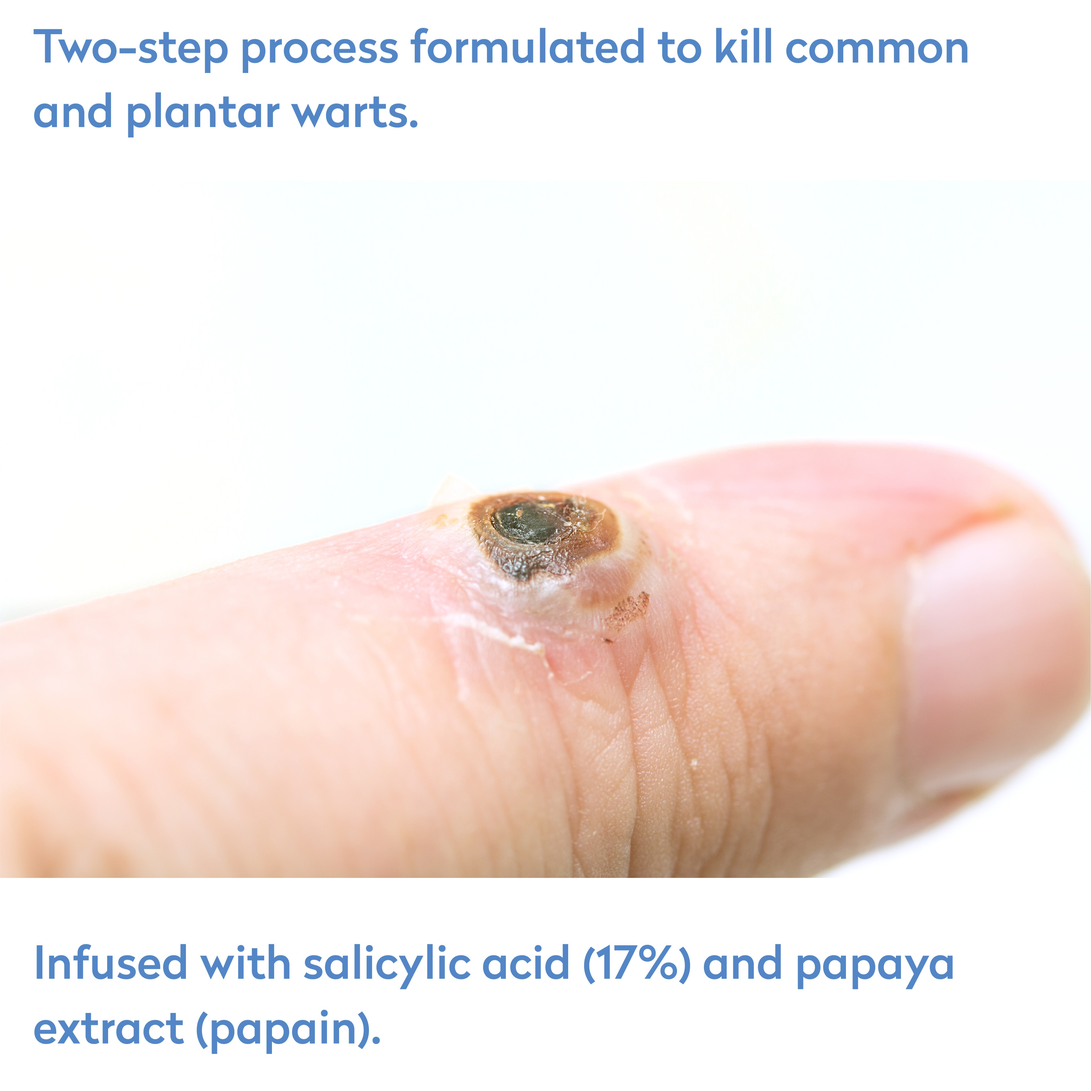Warts: (133, 191, 663, 868)
